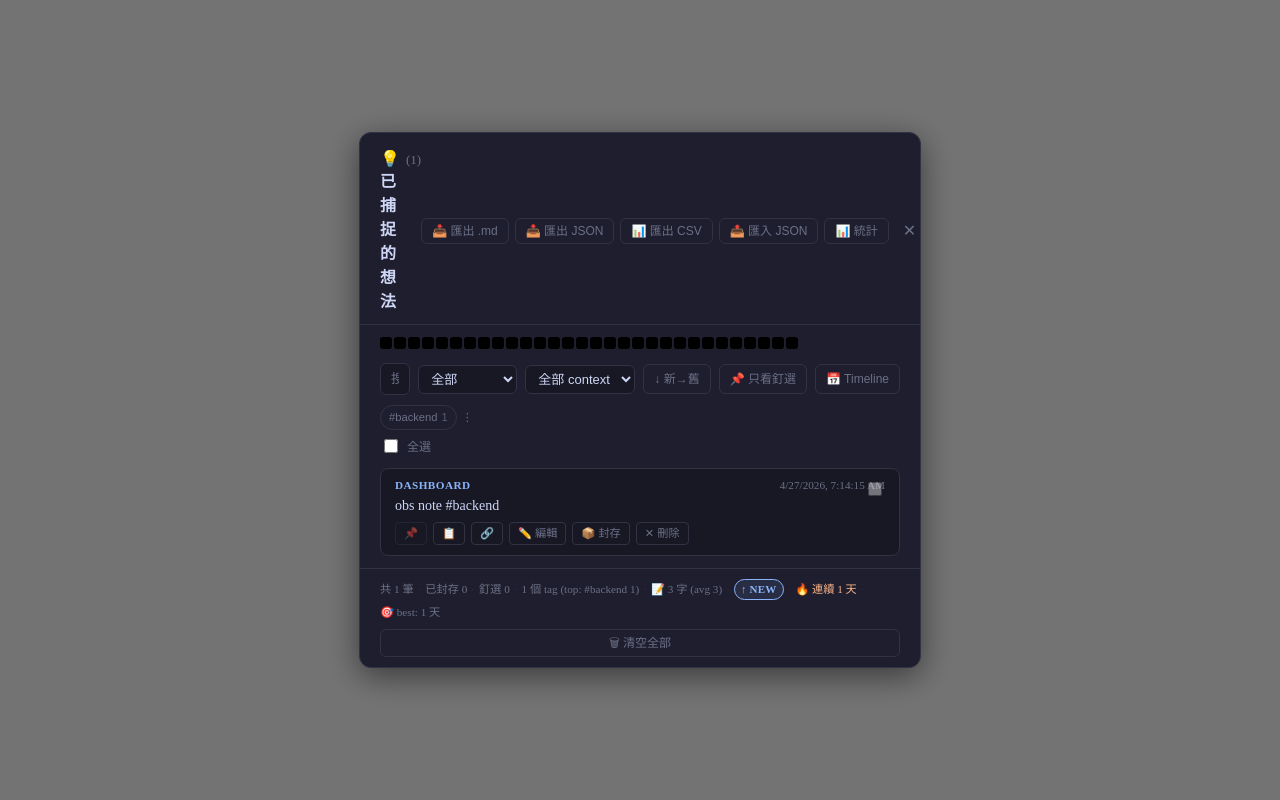
Test: QuickCaptureList — search › shows correct empty state when both search and tag filter yield no results
Click the button with class "tag-chip".
click(418, 417)  # box [380,405,457,430]
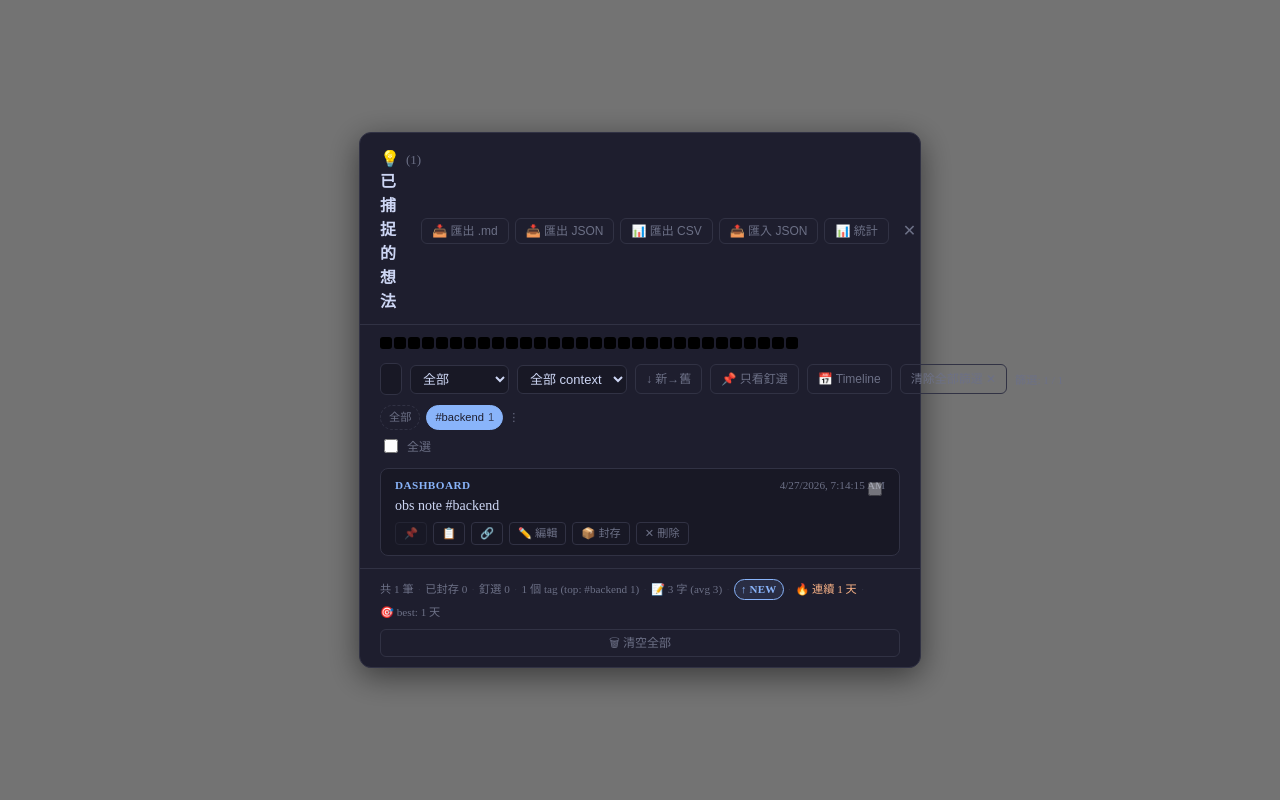
Type "xyzzy_no_match" into the field with placeholder "搜尋 captures...".
click(391, 379); type("xyzzy_no_match")  # box [380,363,402,395]
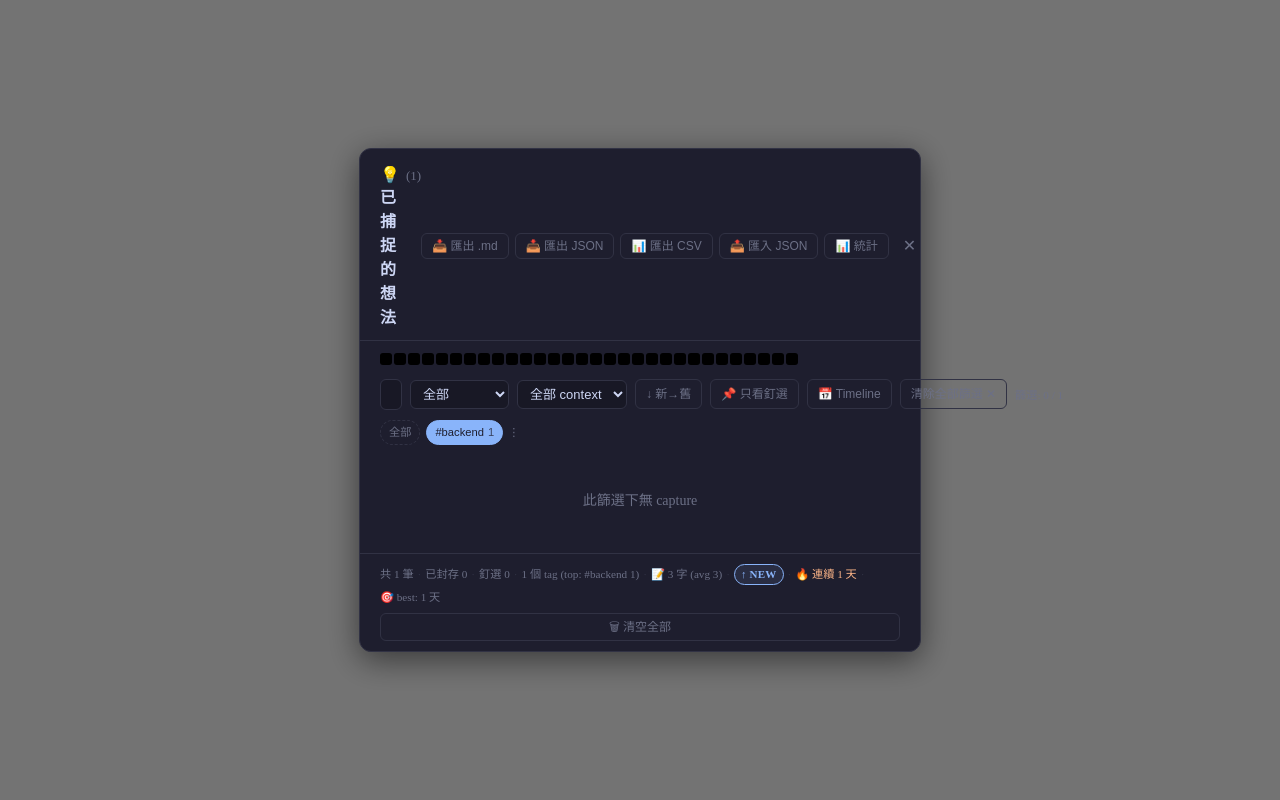
Expected: the text "此篩選下無 capture" is shown, [583,493,697,508]
